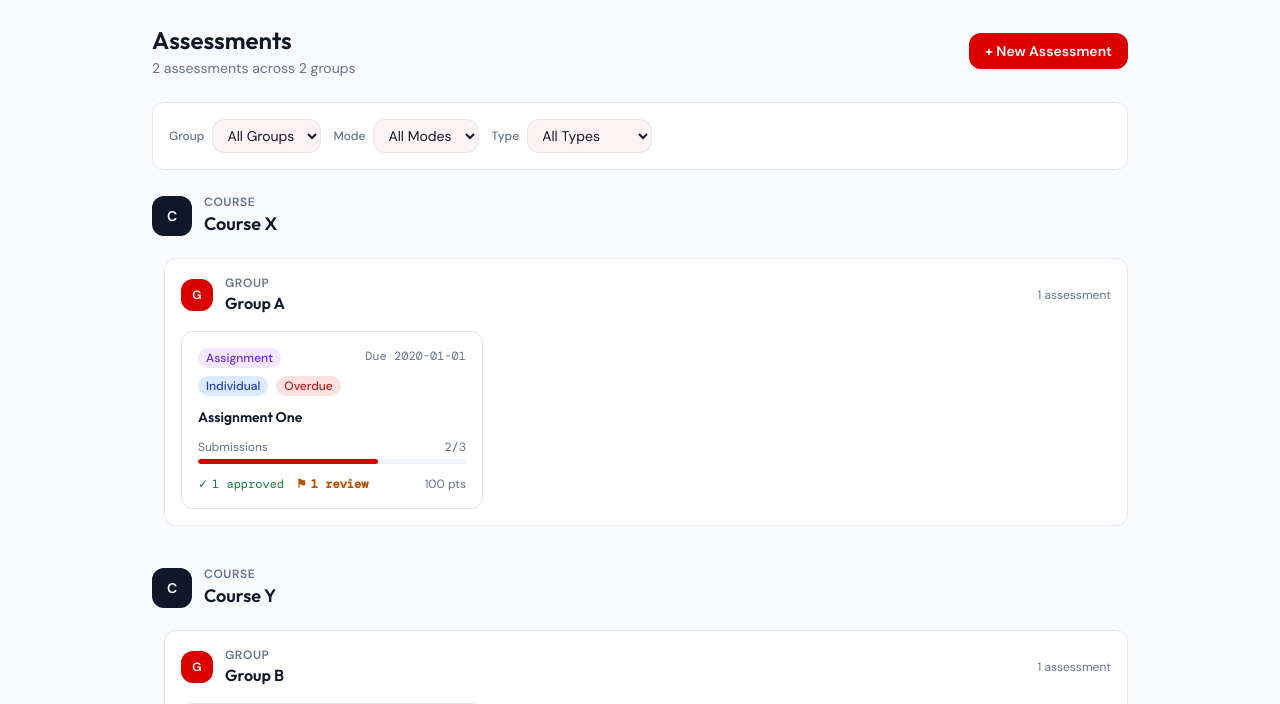
Test: TeacherAssessments - list view › filters by submission mode
The width and height of the screenshot is (1280, 704).
Expected: the text "Assignment One" is shown, [198,408,302,426]
Step 1. Select "Team" in the dropdown next to "Mode" → (426, 136), box [374,119,480,153]
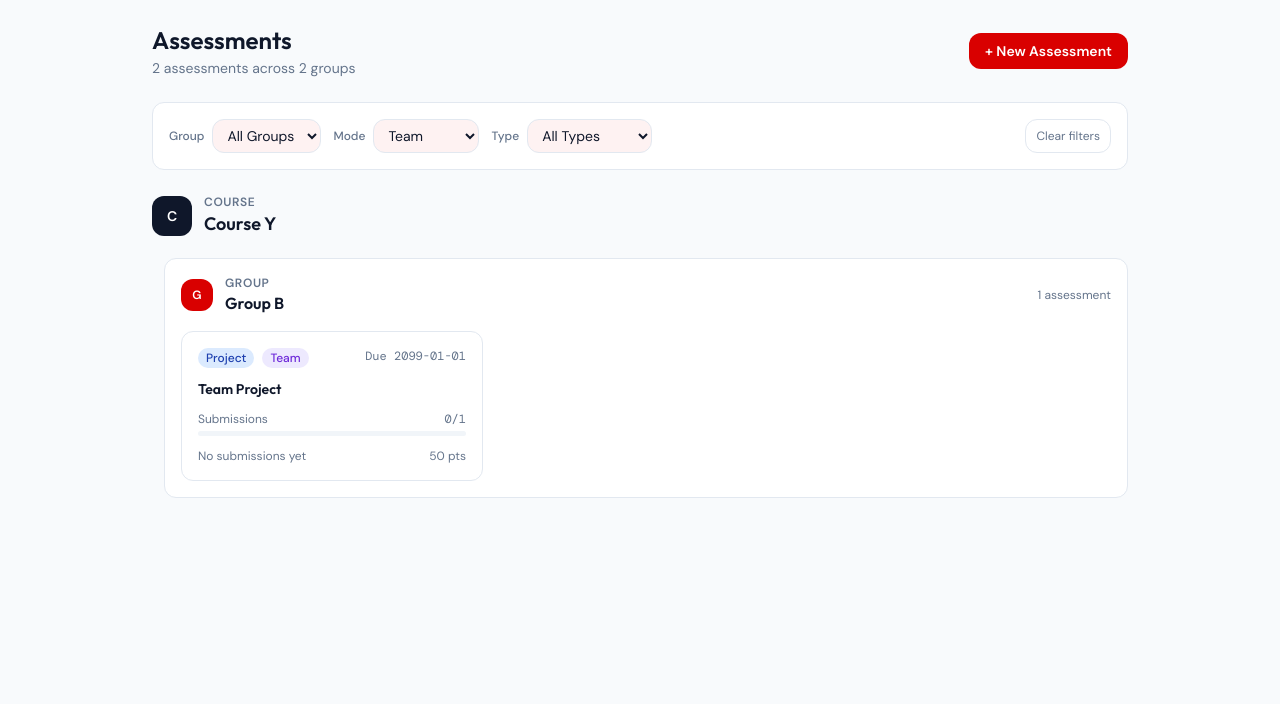
Expected: the text "Team Project" is shown, [198,380,281,398]
Expected: the button "Assignment One" is gone
